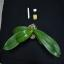leaf: (33, 29, 61, 57), (3, 30, 32, 50), (16, 29, 33, 42), (12, 27, 32, 34)
